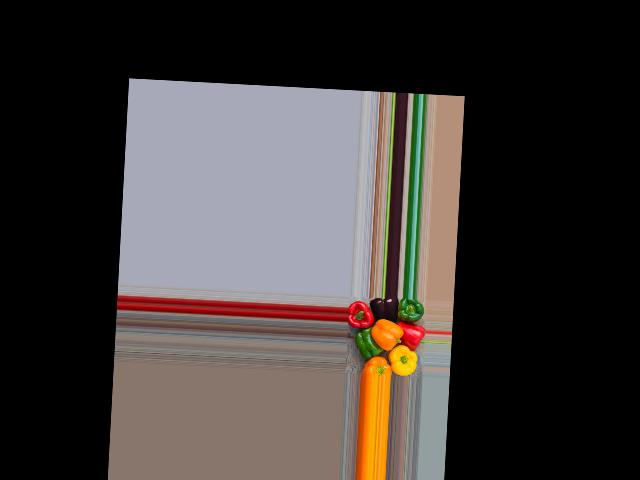bell_pepper: (354, 348, 392, 375)
